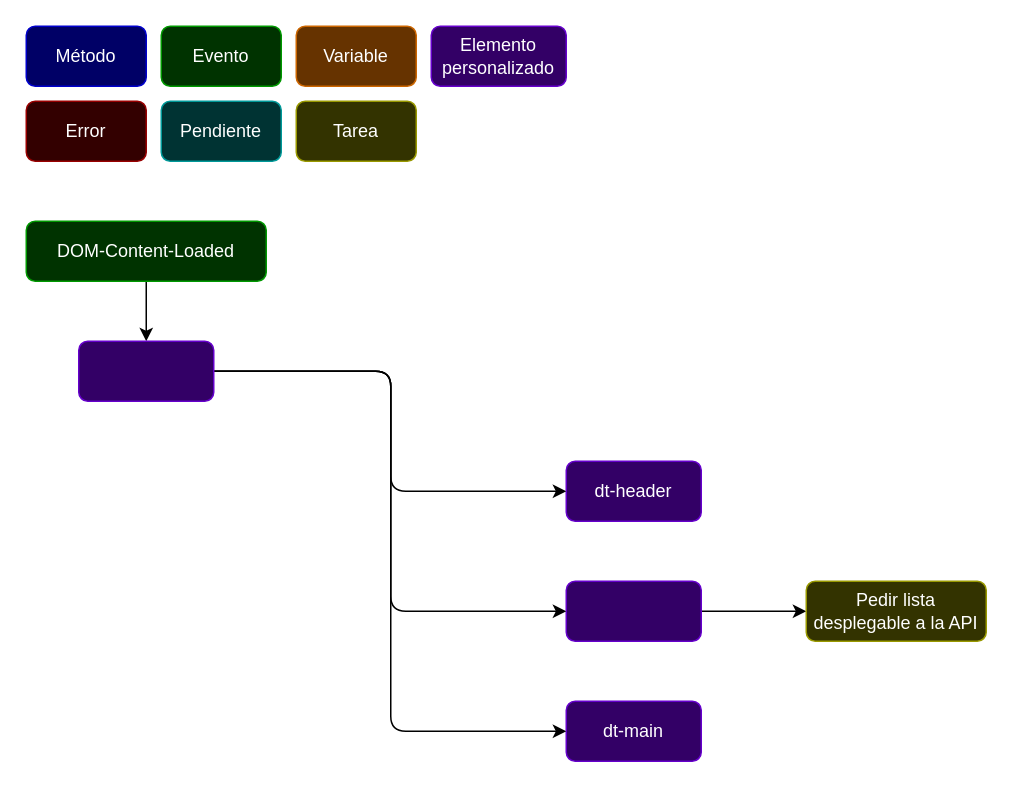
This 1013x788 diagram has some shape labels left out. The shapes that lost their labels are listed below. From the top down, each one's centre as x and y in pixels, then its label:
the point at 145,370: dt-page-maker
the point at 633,610: dt-nav
